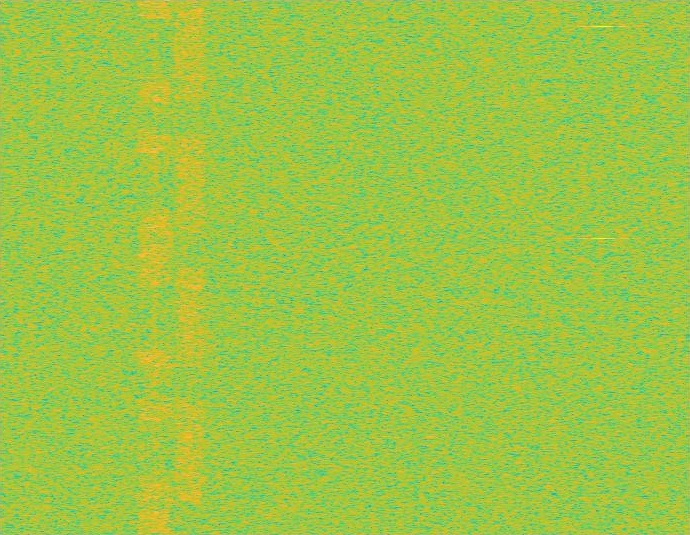5G: (173, 0, 207, 534)
DSSS: (153, 0, 158, 534)
LTE: (138, 0, 173, 534)
Radar: (596, 0, 610, 534)
